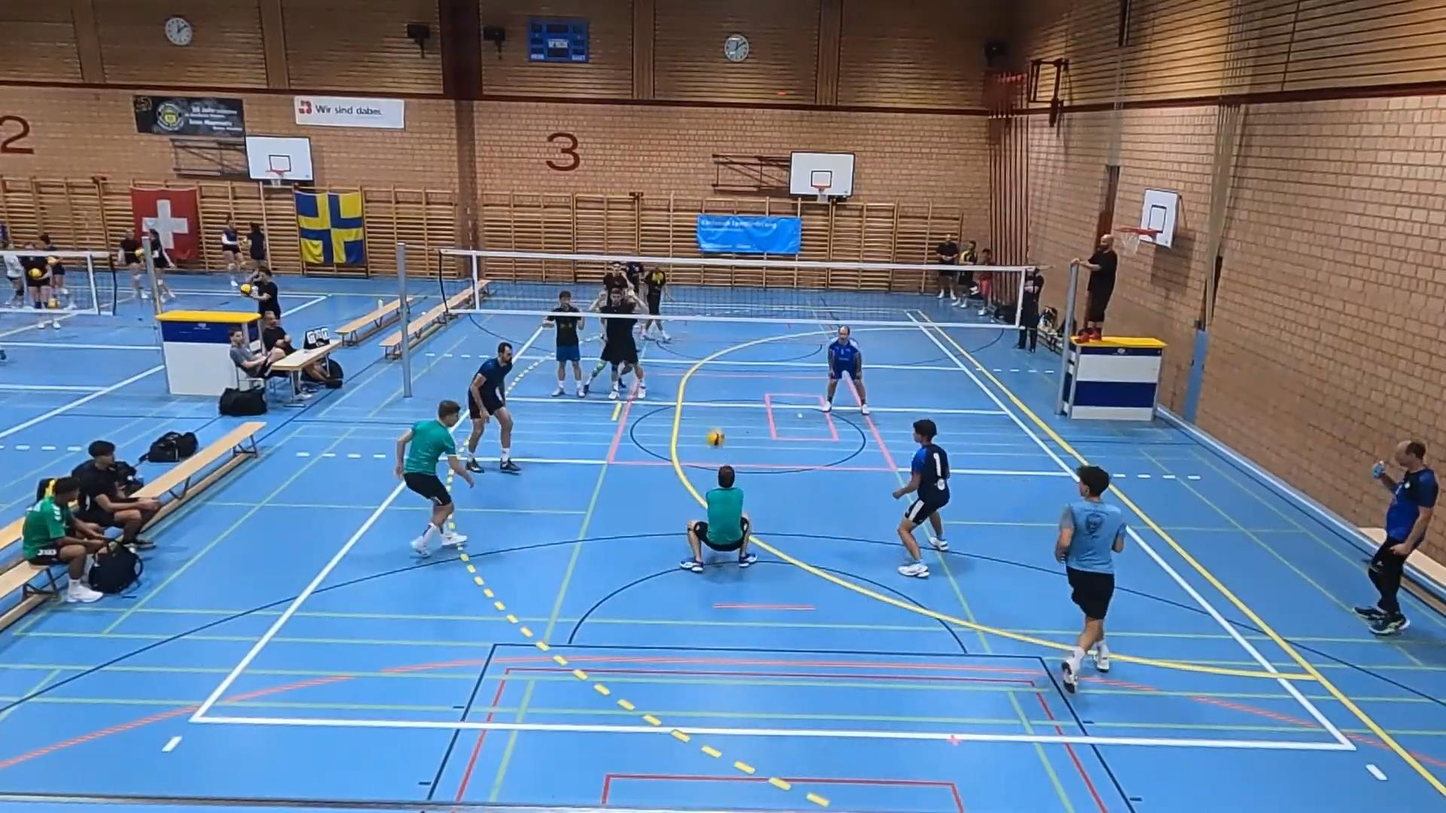Player: (1054, 465, 1125, 693), (396, 400, 473, 556), (892, 419, 949, 577), (465, 342, 520, 473), (599, 289, 645, 399), (544, 291, 584, 397), (823, 326, 868, 415), (589, 262, 628, 312), (643, 266, 667, 316), (599, 262, 630, 300), (624, 262, 644, 297)
Receive: (683, 463, 757, 576)
ball: (702, 423, 735, 453)
